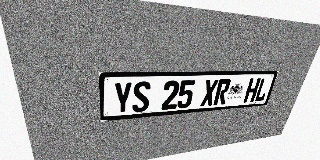2: (161, 80, 180, 110)
5: (177, 80, 195, 109)
H: (243, 78, 261, 103)
L: (254, 78, 271, 102)
R: (213, 79, 232, 105)
S: (132, 81, 151, 113)
X: (200, 79, 219, 106)
Y: (113, 82, 132, 114)
